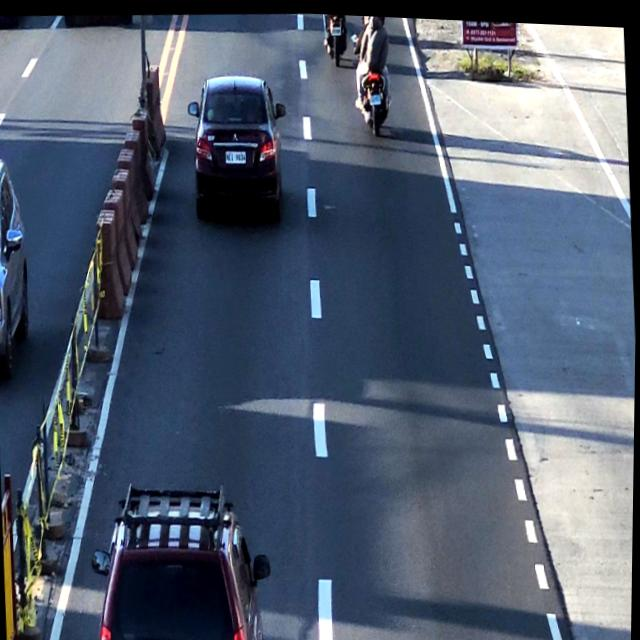Car: (95, 477, 263, 640), (185, 69, 289, 220)
License-Plate: (223, 143, 249, 166), (368, 91, 383, 105)
Motorcycle: (350, 12, 403, 140)
